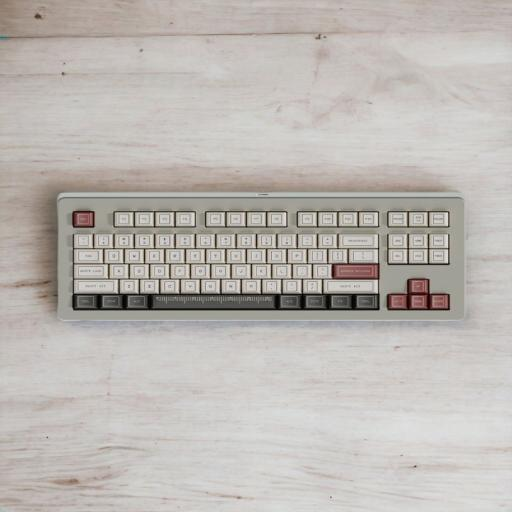keyboard: (50, 190, 480, 326)
